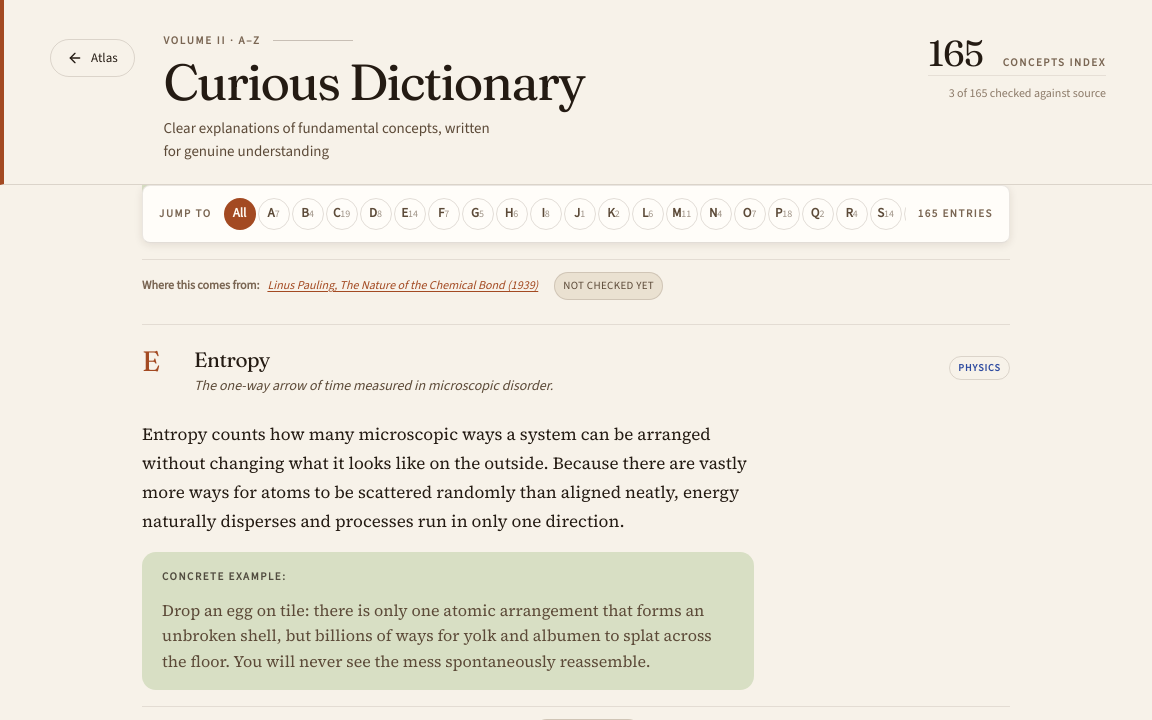
copying a link to an entry › copies a link that names the entry
(page scrolled)
What coordinates should you click on to do the following:
click the heading "Entropy"
I would click on:
 (232, 359)
Its box is 194,347 -> 270,372.
(page scrolled)
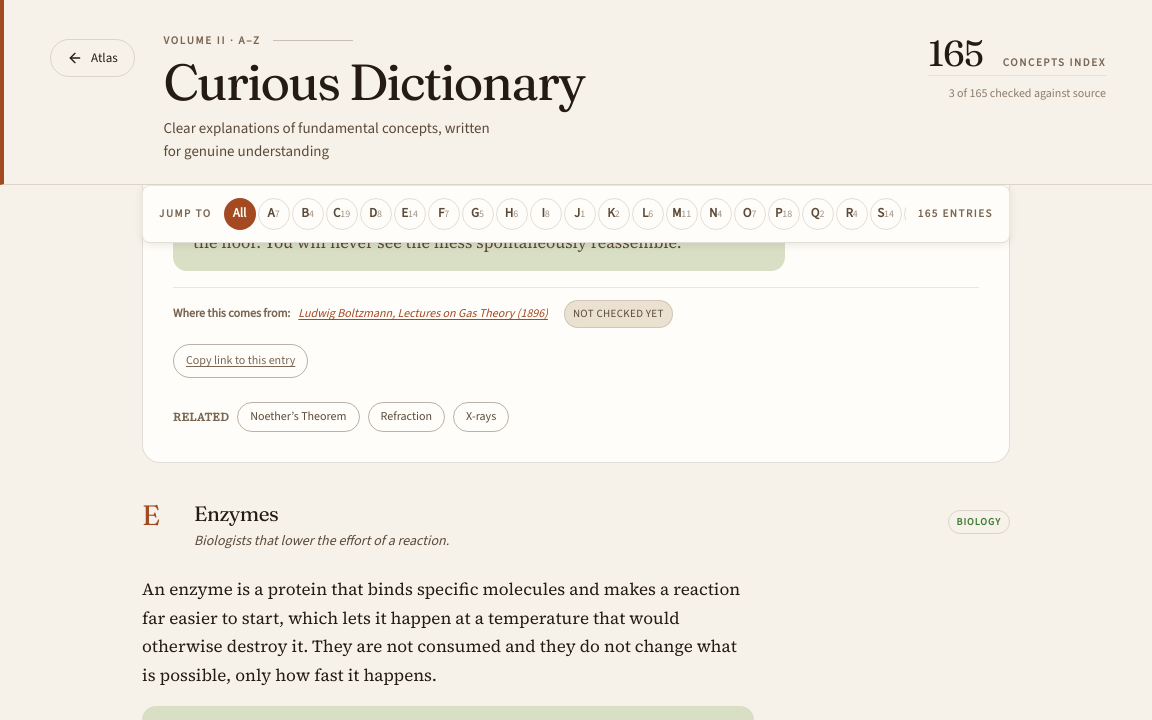
What coordinates should you click on to do the following:
click the button "Copy link to this entry"
I would click on:
 (241, 361)
Its box is 173,344 -> 308,378.
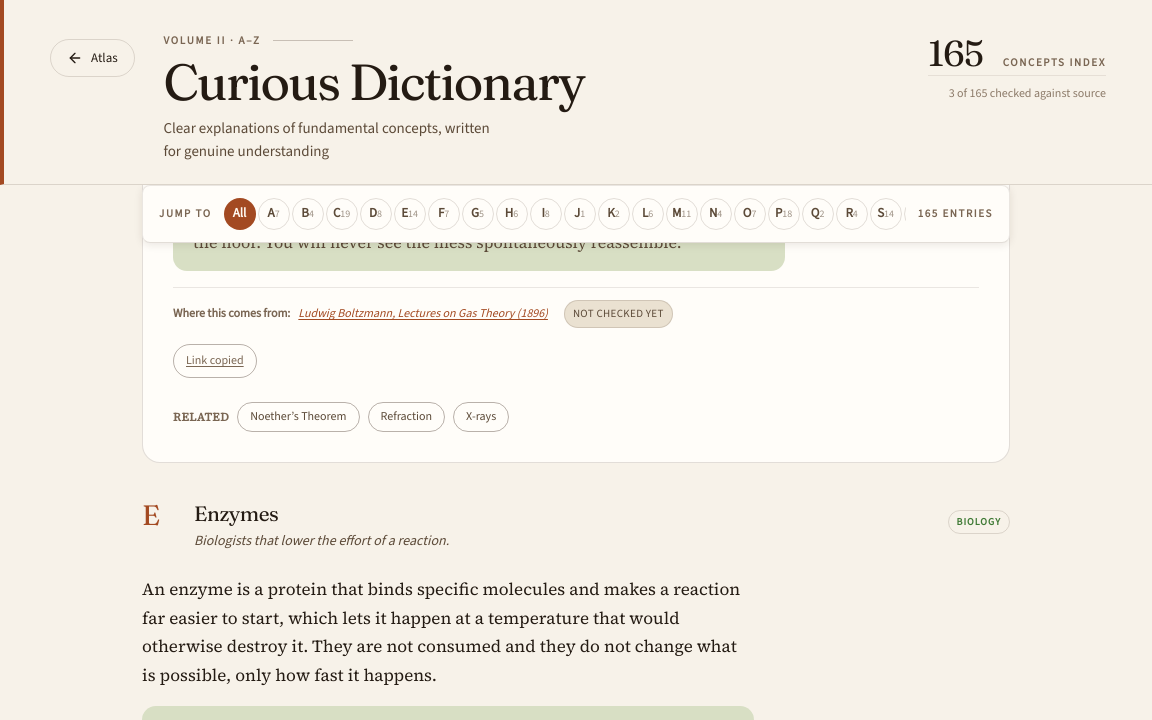
Check: the button "Link copied" is shown, box 173,344 -> 257,378
